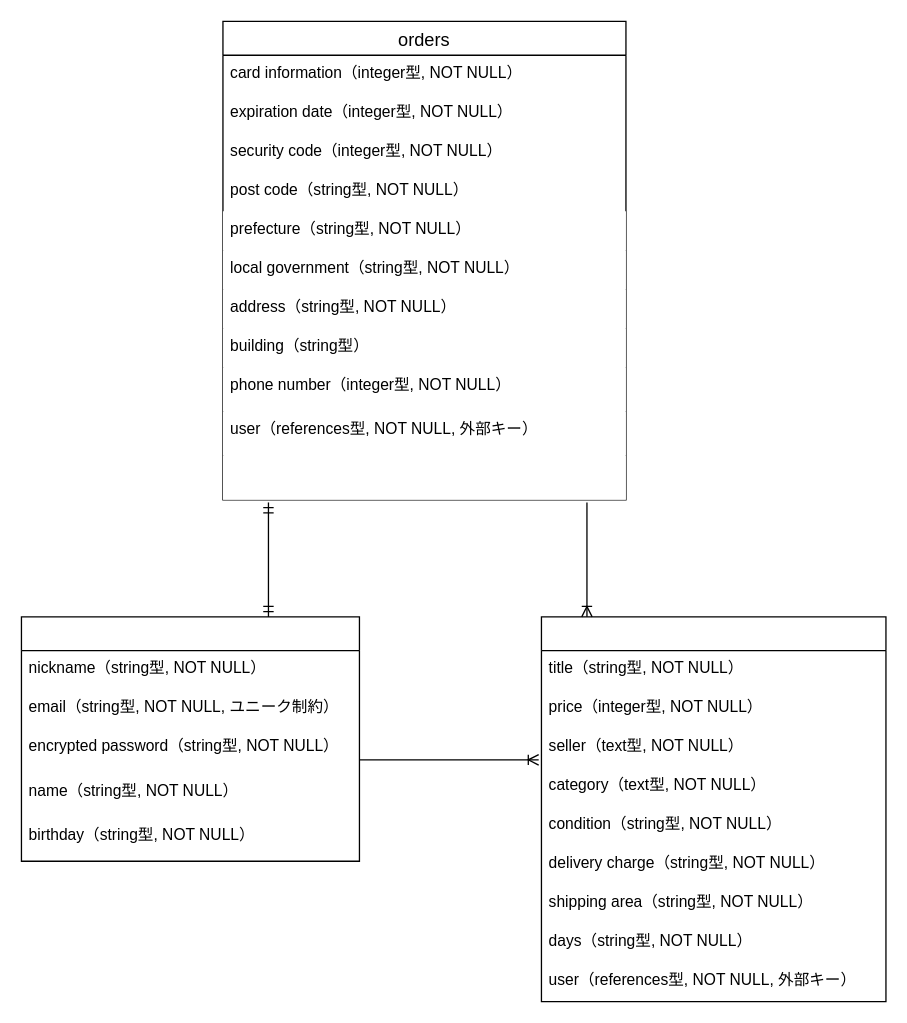
Some shapes in this 907 by 1023 pixel diagram are drawn without their labels. Each missing label, with the box of its shape:
items: (540, 616, 886, 1002)
item（references型, NOT NULL, 外部キー）: (222, 455, 625, 499)
users: (20, 616, 359, 861)
